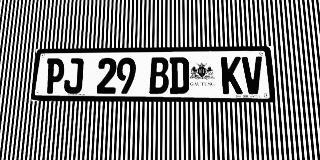2: (97, 58, 117, 94)
9: (116, 58, 136, 94)
B: (149, 57, 169, 94)
D: (169, 57, 189, 94)
J: (63, 58, 84, 94)
K: (221, 57, 243, 94)
P: (44, 58, 65, 94)
V: (242, 56, 264, 94)
